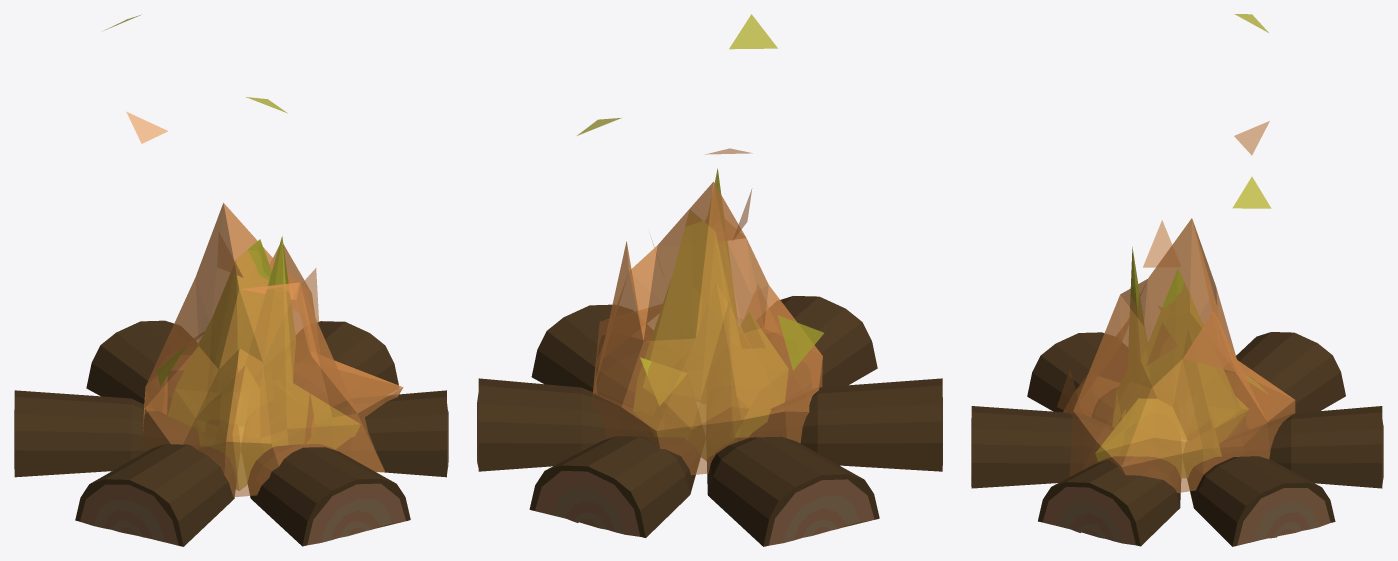
The model's file is fire.glb.
3 renders of one model, left to right at view 1: azimuth 30°, elevation 25°; view 2: azimuth 150°, elevation 25°; view 3: azimuth 270°, elevation 25°, orthographic. The views are drawn at different scales.
Parts seen in each view (by area): view 1: Firewood, FireOuter, FireInner, Plane; view 2: Firewood, FireOuter, FireInner, Plane; view 3: Firewood, FireOuter, FireInner, Plane.
Part boxes in pixels (x1,y1,x2,y2): Firewood: (14, 320, 448, 546); FireOuter: (143, 203, 403, 497); FireInner: (167, 236, 360, 490); Plane: (102, 14, 319, 445); Firewood: (477, 296, 942, 546); FireOuter: (592, 182, 822, 475); FireInner: (633, 168, 788, 460); Plane: (577, 14, 823, 405); Firewood: (971, 332, 1383, 546); FireOuter: (1063, 218, 1295, 492); FireInner: (1095, 247, 1248, 477); Plane: (1057, 14, 1271, 418).
Bounding box in the file's own units: 0.7605 × 0.8439 × 0.754.
